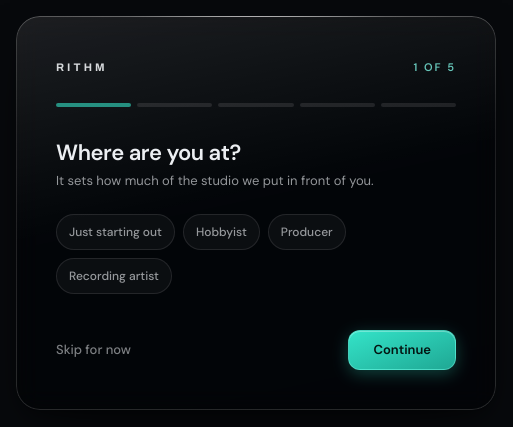
Test: Onboarding › goes back to the previous question
Click the button "Continue" at point(402, 350), box [348,330,456,370]
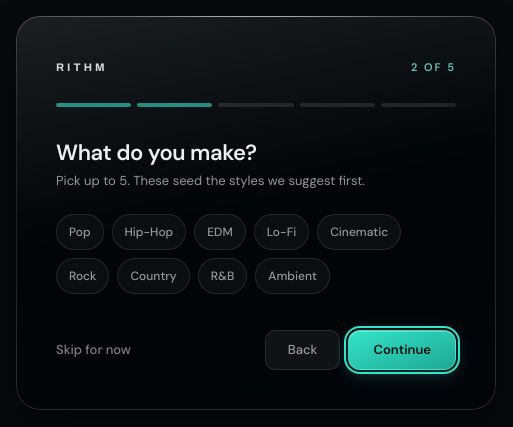
Click the button "Back" at point(303, 350), box [265,330,340,370]
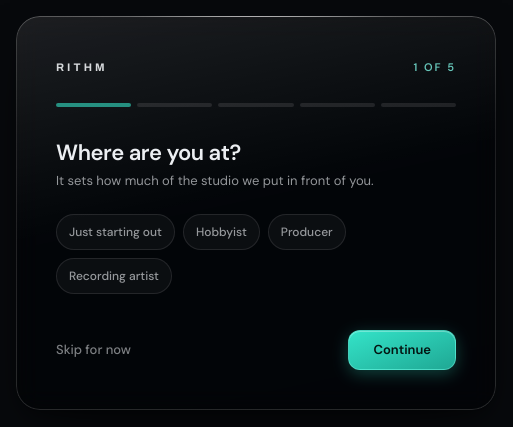
Expected: the heading "Where are you at?" is shown, [56,138,241,167]
